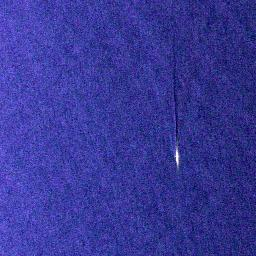Ship: (173, 147, 182, 167)
